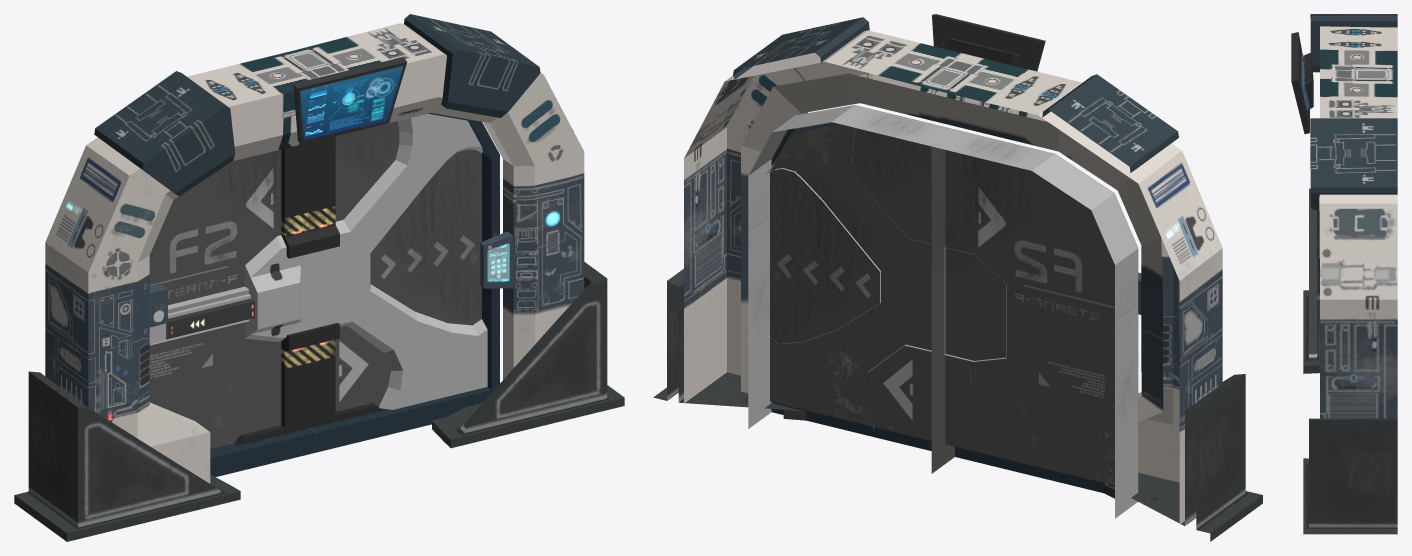
The picture shows the model from 3 angles, left to right: view 1: azimuth 30°, elevation 25°; view 2: azimuth 150°, elevation 25°; view 3: azimuth 270°, elevation 25°; orthographic projection. The views are drawn at different scales.
Parts seen in each view (by area): view 1: Object008_pillar_0, Object008_DOOR_0, Object008_LOCK1_0, Object008_Bottom_0, Object008_lock02_0, Object008_emissive_0; view 2: Object008_DOOR_0, Object008_pillar_0, Object008_Bottom_0, Object008_LOCK1_0, Object008_emissive_0; view 3: Object008_pillar_0, Object008_Bottom_0, Object008_LOCK1_0, Object008_emissive_0.
Boxes of the visible parts, box(x1,y1,x2,y2) form: Object008_pillar_0: box(45, 23, 584, 483); Object008_DOOR_0: box(149, 113, 499, 476); Object008_LOCK1_0: box(94, 14, 540, 409); Object008_Bottom_0: box(14, 262, 624, 541); Object008_lock02_0: box(234, 136, 382, 445); Object008_emissive_0: box(293, 57, 406, 144); Object008_DOOR_0: box(748, 105, 1138, 518); Object008_pillar_0: box(684, 30, 1222, 524); Object008_Bottom_0: box(653, 269, 1262, 541); Object008_LOCK1_0: box(733, 17, 1178, 429); Object008_emissive_0: box(932, 14, 1045, 71); Object008_pillar_0: box(1319, 26, 1397, 418); Object008_Bottom_0: box(1303, 188, 1397, 534); Object008_LOCK1_0: box(1310, 14, 1397, 209); Object008_emissive_0: box(1291, 32, 1313, 134).
Size of the model in its own units: 221 by 154 by 40.63.
6 materials, 6 textured.
